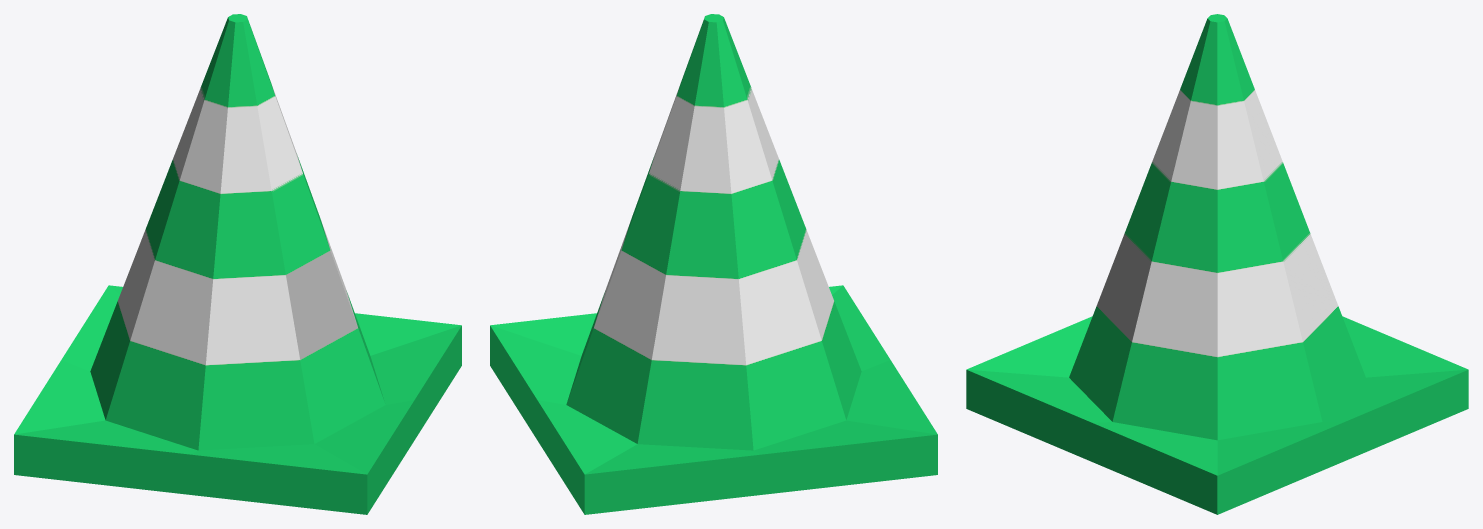
The model's file is cone_no_metallic.glb.
3 views of the same model, side by side, from view 1: azimuth 30°, elevation 25°; view 2: azimuth 150°, elevation 25°; view 3: azimuth 270°, elevation 25° (orthographic). The views are drawn at different scales.
Visible parts, largest first — view 1: Cylinder; view 2: Cylinder; view 3: Cylinder.
Boxes of the visible parts, <box> form: Cylinder: <box>14,14,461,514</box>; Cylinder: <box>490,14,937,514</box>; Cylinder: <box>966,14,1468,514</box>.
Size of the model in its own units: 3.38 by 2.9 by 3.38.
1 material, 1 textured.
